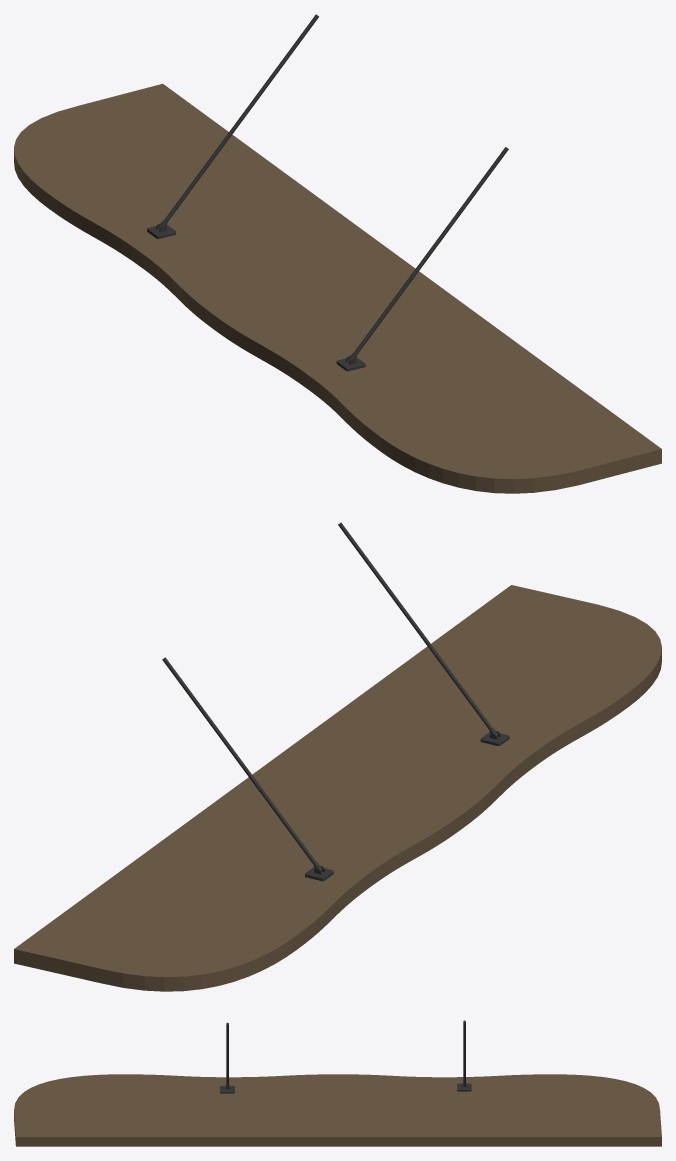
Rendered from ReceptionDesk_ReceptionDeskRoof.FBX.
3 renders of one model, top to bottom at view 1: azimuth 30°, elevation 25°; view 2: azimuth 150°, elevation 25°; view 3: azimuth 270°, elevation 25°, orthographic. The views are drawn at different scales.
Parts seen in each view (by area): view 1: ReceptionDesk_ReceptionDeskRoof; view 2: ReceptionDesk_ReceptionDeskRoof; view 3: ReceptionDesk_ReceptionDeskRoof.
Part boxes in pixels (bbox=[...]): ReceptionDesk_ReceptionDeskRoof: bbox=[14, 14, 661, 493]; ReceptionDesk_ReceptionDeskRoof: bbox=[14, 522, 661, 991]; ReceptionDesk_ReceptionDeskRoof: bbox=[14, 1020, 661, 1146].
Size of what is drawn, in the model's own units: 225 by 934 by 201.
